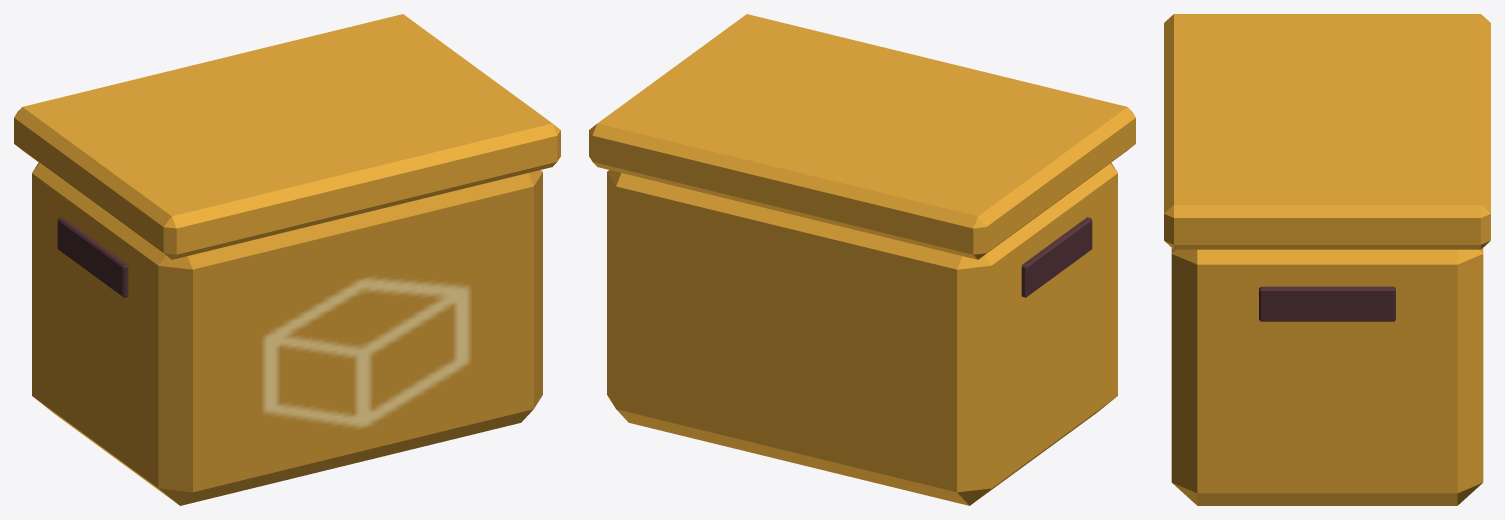
The model's file is delivery-crate.glb.
3 views of the same model, side by side, from view 1: azimuth 30°, elevation 25°; view 2: azimuth 150°, elevation 25°; view 3: azimuth 270°, elevation 25° (orthographic). The views are drawn at different scales.
Parts seen in each view (by area): view 1: Crate, Lid, Grip; view 2: Crate, Lid, Grip; view 3: Lid, Crate, Grip.001.
Boxes of the visible parts, <box> form: Crate: <box>32,162,542,505</box>; Lid: <box>14,14,560,259</box>; Grip: <box>57,217,128,297</box>; Crate: <box>607,162,1117,505</box>; Lid: <box>589,14,1135,259</box>; Grip: <box>1021,217,1092,297</box>; Lid: <box>1164,14,1490,249</box>; Crate: <box>1171,248,1483,505</box>; Grip.001: <box>1259,286,1395,321</box>.
Size of the model in its own units: 0.62 by 0.4515 by 0.43.
1 material, 1 textured.
